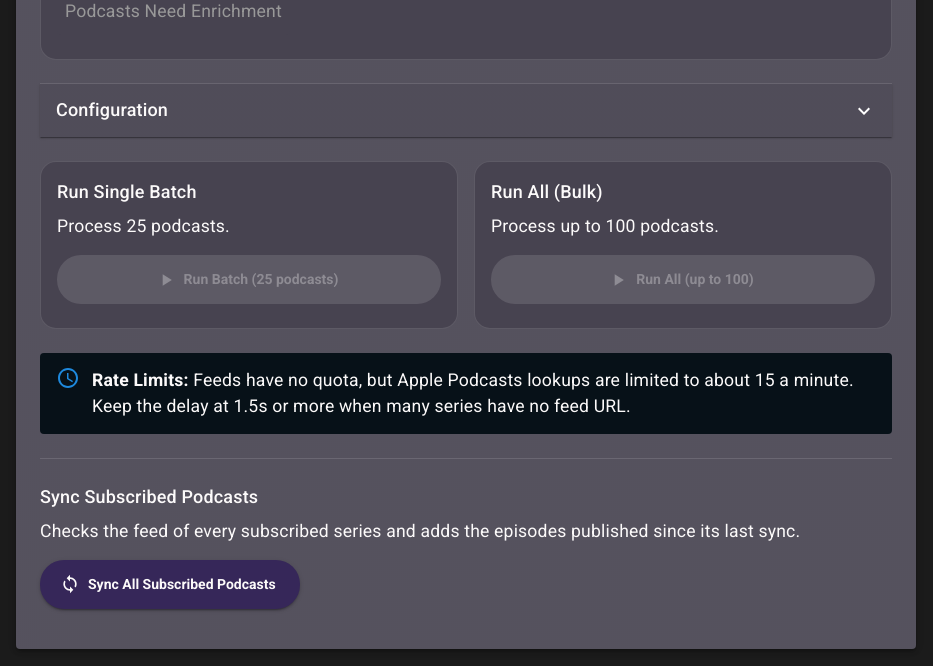
it: BackgroundJobsPage › syncs all subscribed podcasts and renders the result
(page scrolled)
Step 1. Click the button "Sync All Subscribed Podcasts" → x=170, y=584, box [40,560,300,609]
(page scrolled)
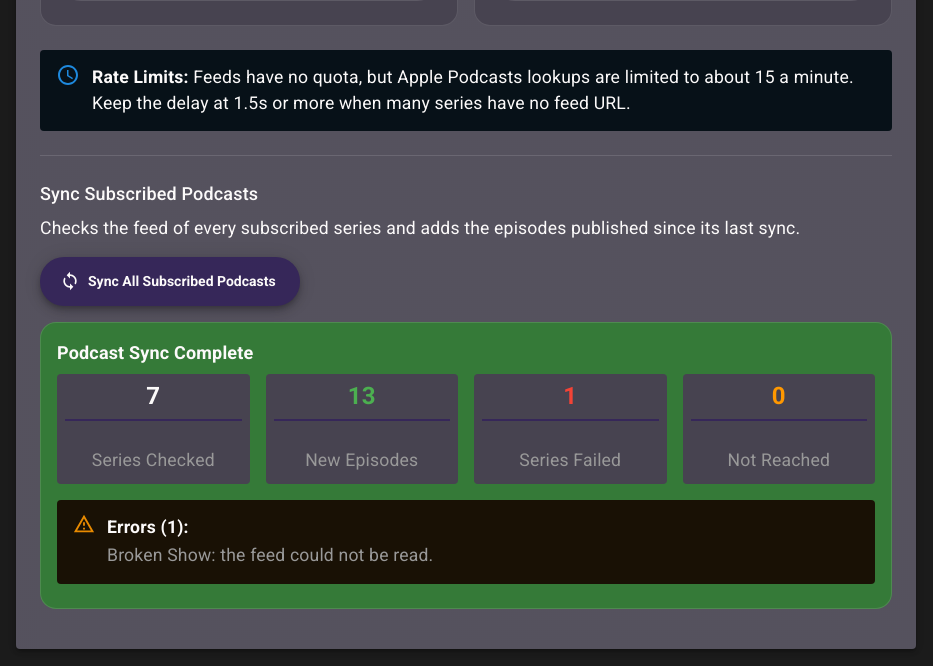
Now the heading "Podcast Sync Complete" is shown, box [57,342,253,363]
Now the heading "13" is shown, box [274,382,450,421]
Now the text "Series Checked" is shown, box [92,450,215,470]
